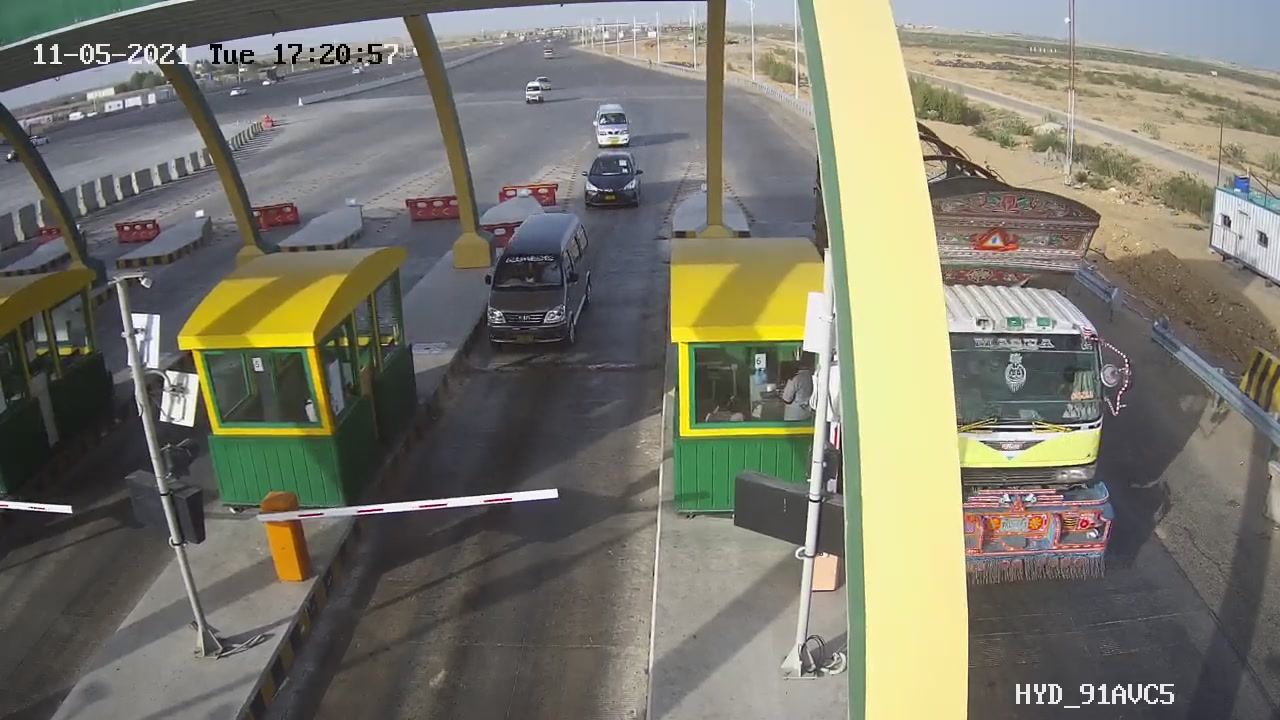F2: (470, 201, 609, 360)
